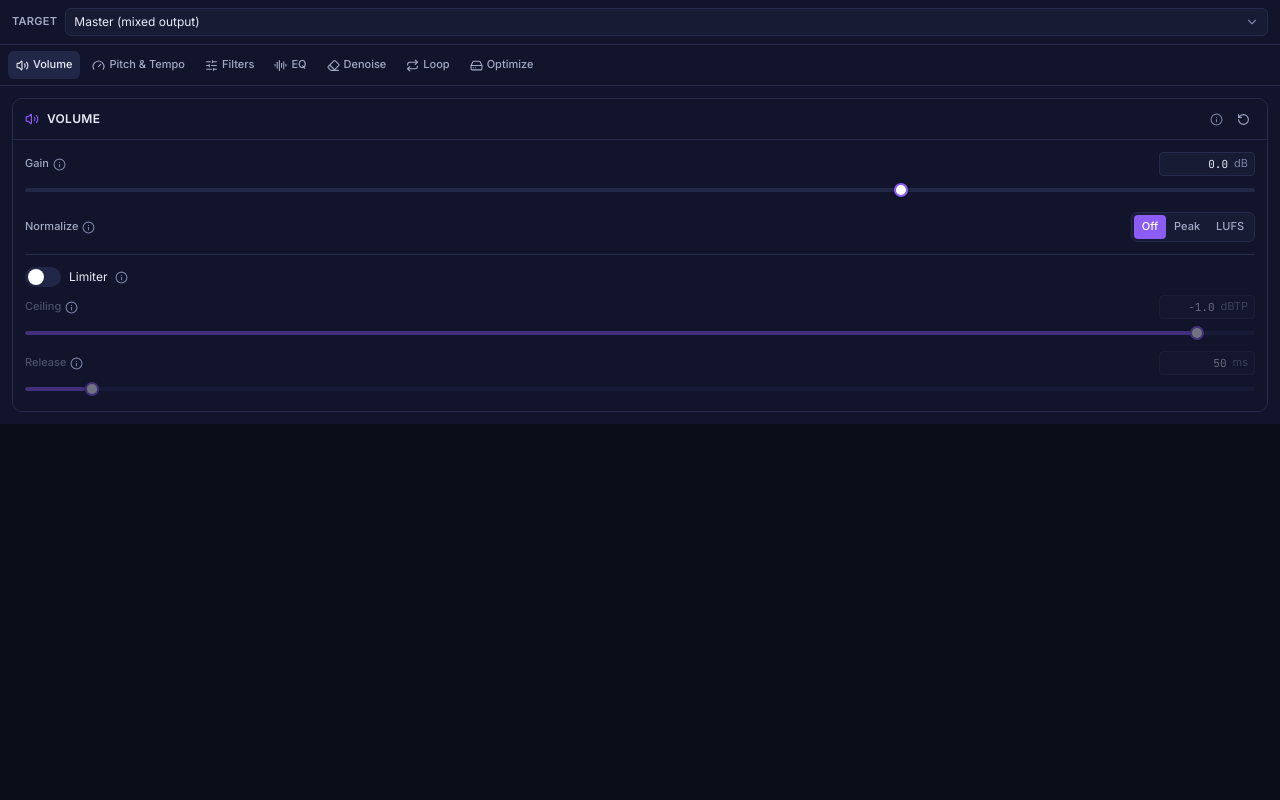
Test: EffectsPanel › switches sections with the tabs
Press the mouse on the tab "EQ" at (290, 65), box top-left (266, 51), bottom-right (314, 79)
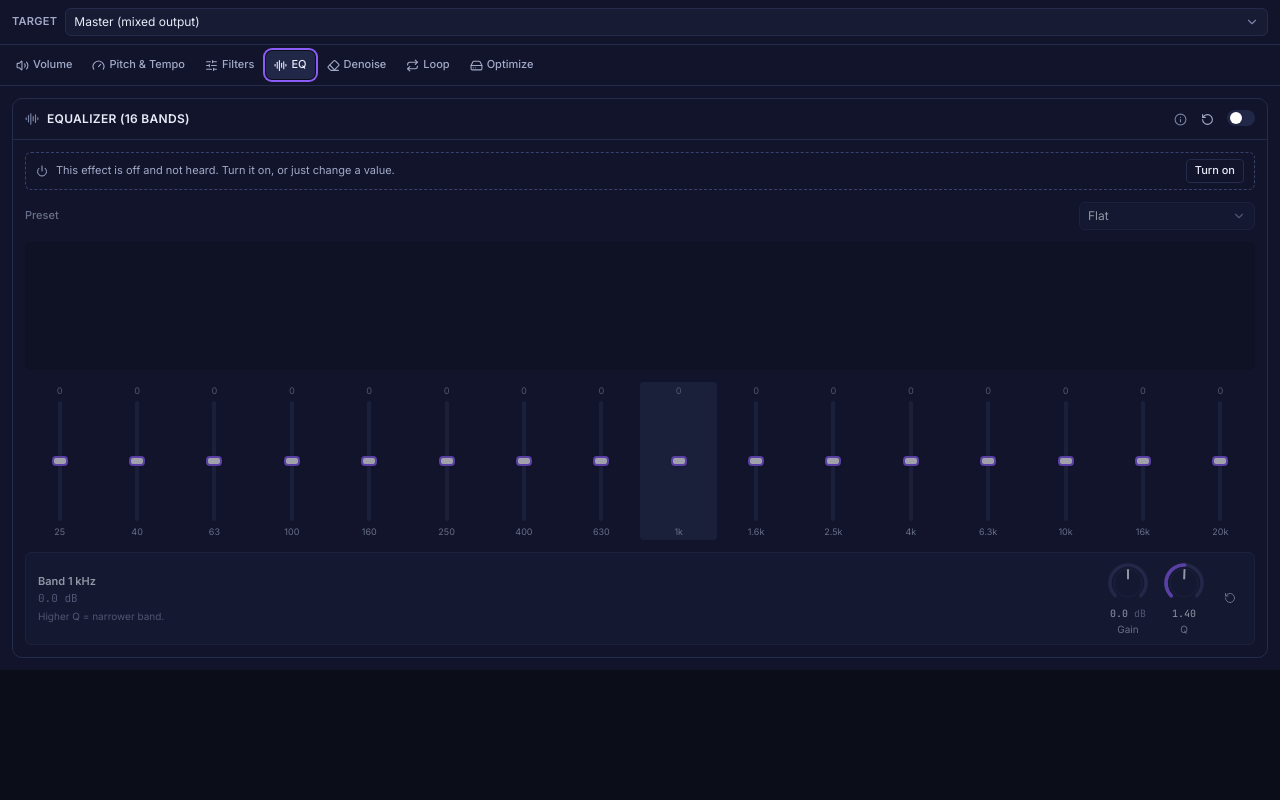
Expected: the element "Equalizer (16 bands)" is shown
Press the mouse on the tab "Denoise" at (356, 65), box top-left (318, 51), bottom-right (394, 79)
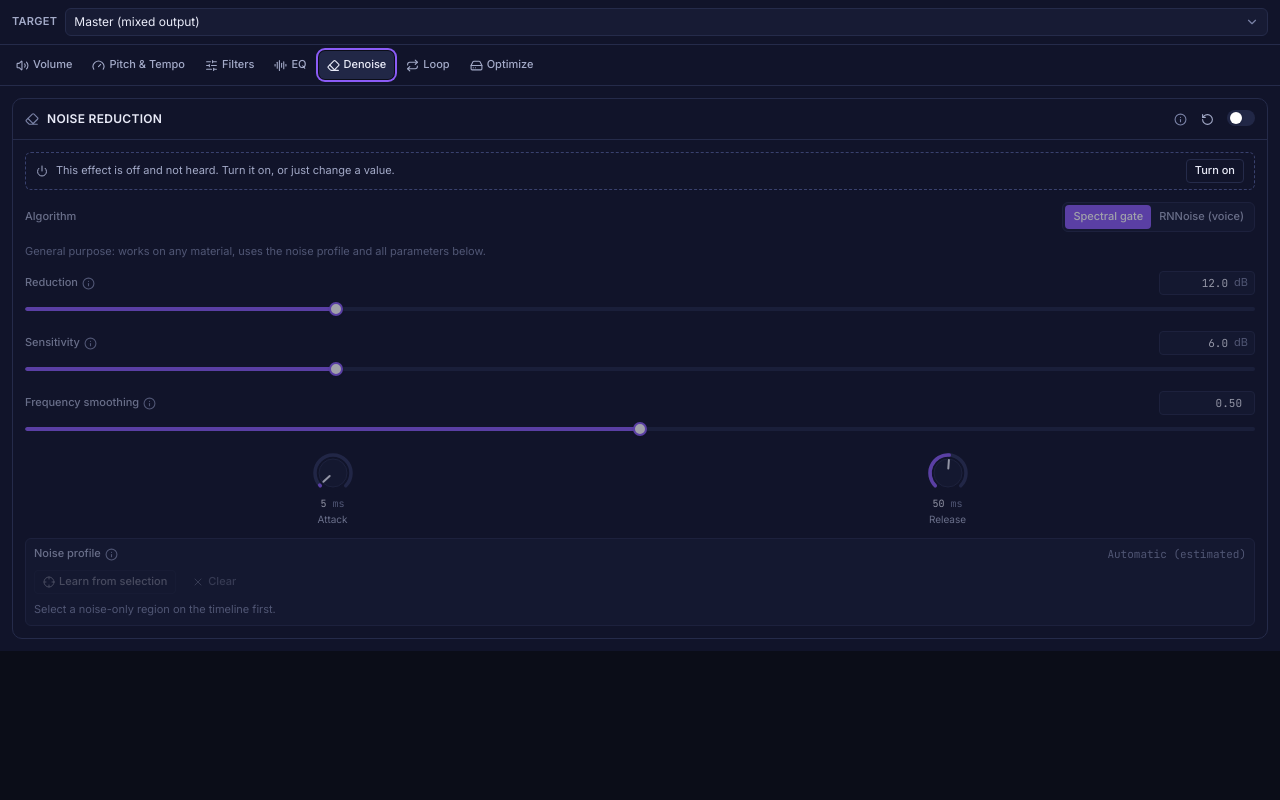
Expected: the element "Noise reduction" is shown
